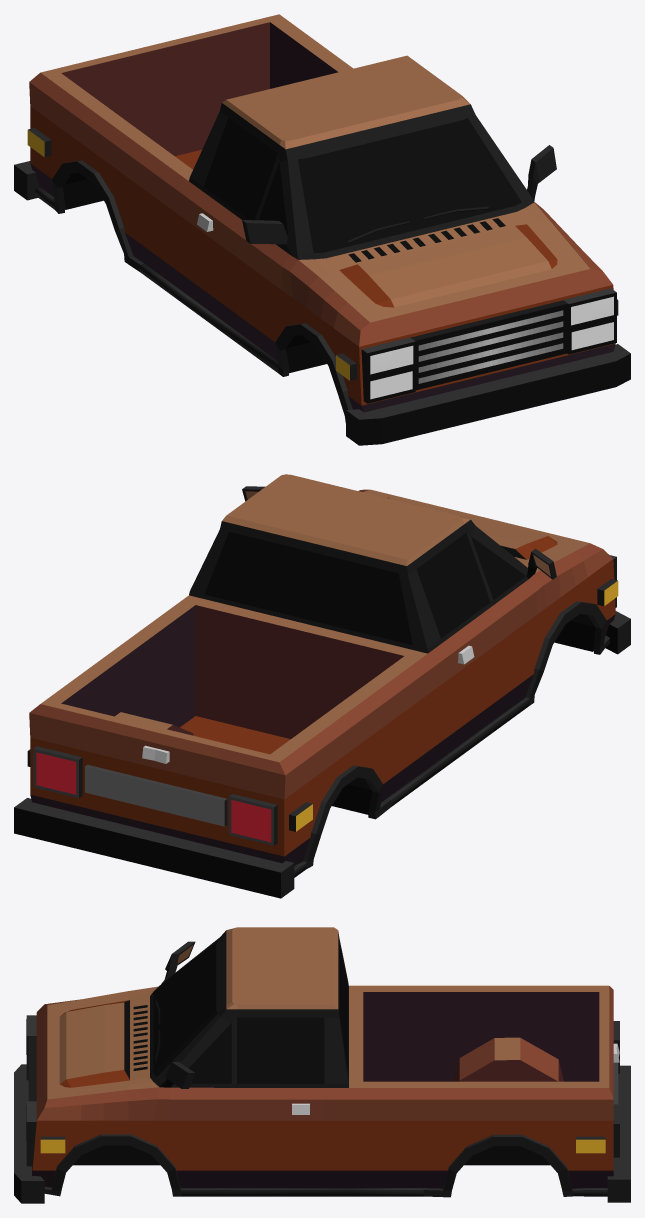
File: PickUp.008.fbx
3 renders of one model, top to bottom at view 1: azimuth 30°, elevation 25°; view 2: azimuth 150°, elevation 25°; view 3: azimuth 270°, elevation 25°, orthographic. The views are drawn at different scales.
Parts seen in each view (by area): view 1: PickUp.008; view 2: PickUp.008; view 3: PickUp.008.
Part boxes in pixels (x1,y1,x2,y2): PickUp.008: (14, 14, 630, 445); PickUp.008: (14, 474, 630, 898); PickUp.008: (14, 927, 630, 1203).
Bounding box in the file's own units: 2.02 × 1.28 × 4.
